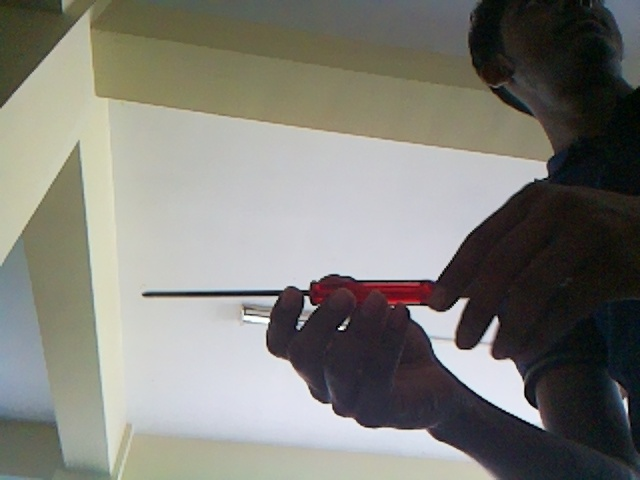redskrew: (136, 279, 435, 312)
